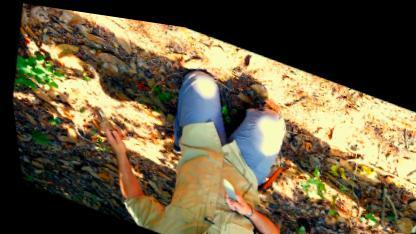knife: (210, 167, 248, 211)
